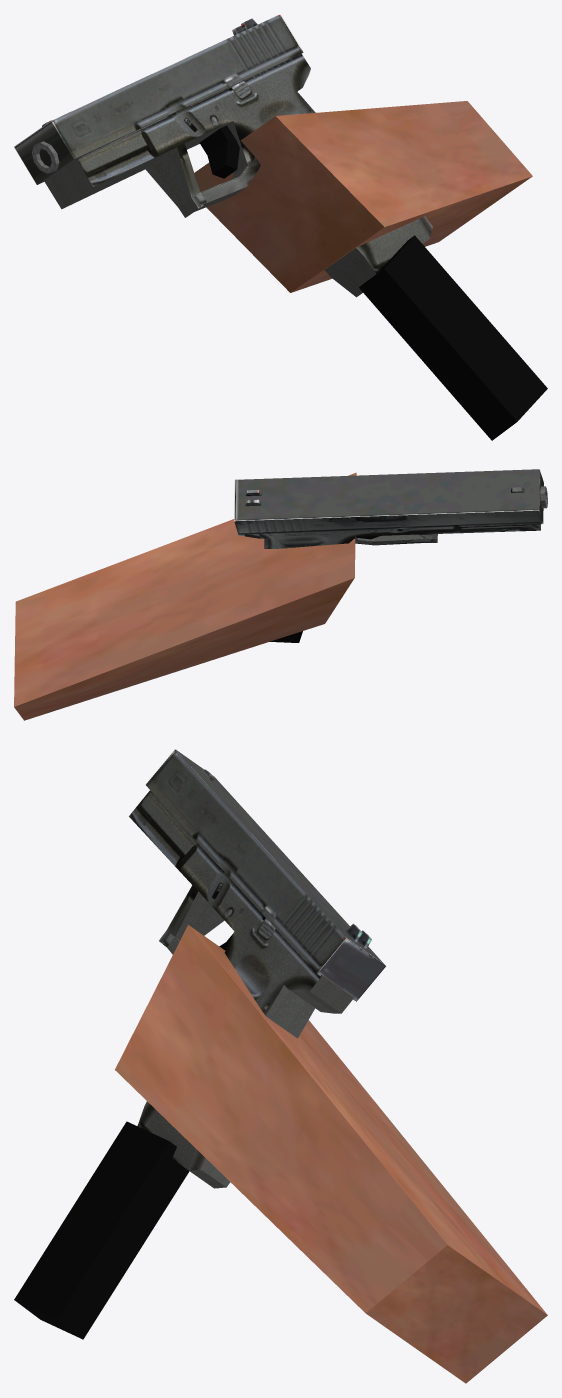
File: pistol_000024.obj
3 renders of one model, top to bottom at view 1: azimuth 30°, elevation 25°; view 2: azimuth 150°, elevation 25°; view 3: azimuth 270°, elevation 25°, orthographic. The views are drawn at different scales.
Parts seen in each view (by area): view 1: Cube, Cube.002, Cube.001, Cube.003; view 2: Cube, Cube.001; view 3: Cube, Cube.002, Cube.001.
Boxes of the visible parts, left/top/right/bottom form: Cube: left=31, top=54, right=532, bottom=297; Cube.002: left=359, top=235, right=547, bottom=440; Cube.001: left=14, top=14, right=303, bottom=184; Cube.003: left=199, top=125, right=239, bottom=178; Cube: left=14, top=472, right=547, bottom=720; Cube.001: left=234, top=469, right=543, bottom=534; Cube: left=115, top=790, right=547, bottom=1383; Cube.002: left=14, top=1121, right=189, bottom=1339; Cube.001: left=146, top=749, right=385, bottom=1001.
Bounding box in the file's own units: 1.68 × 0.9911 × 1.26.
